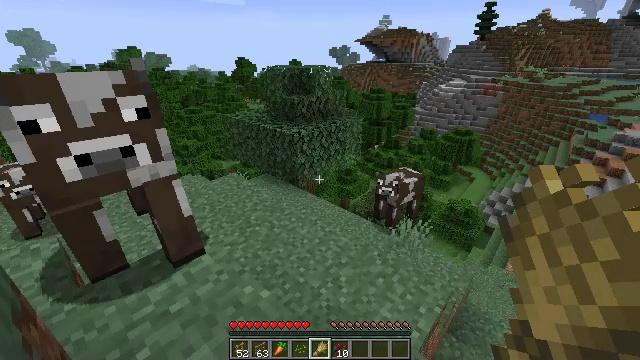cow: (0, 65, 206, 284), (0, 165, 50, 240), (374, 167, 425, 225)
